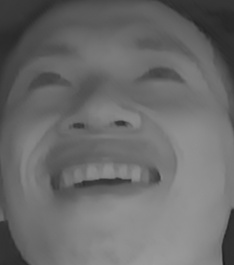eye: (134, 59, 188, 98), (21, 65, 71, 99)
mouth: (31, 140, 168, 212)
